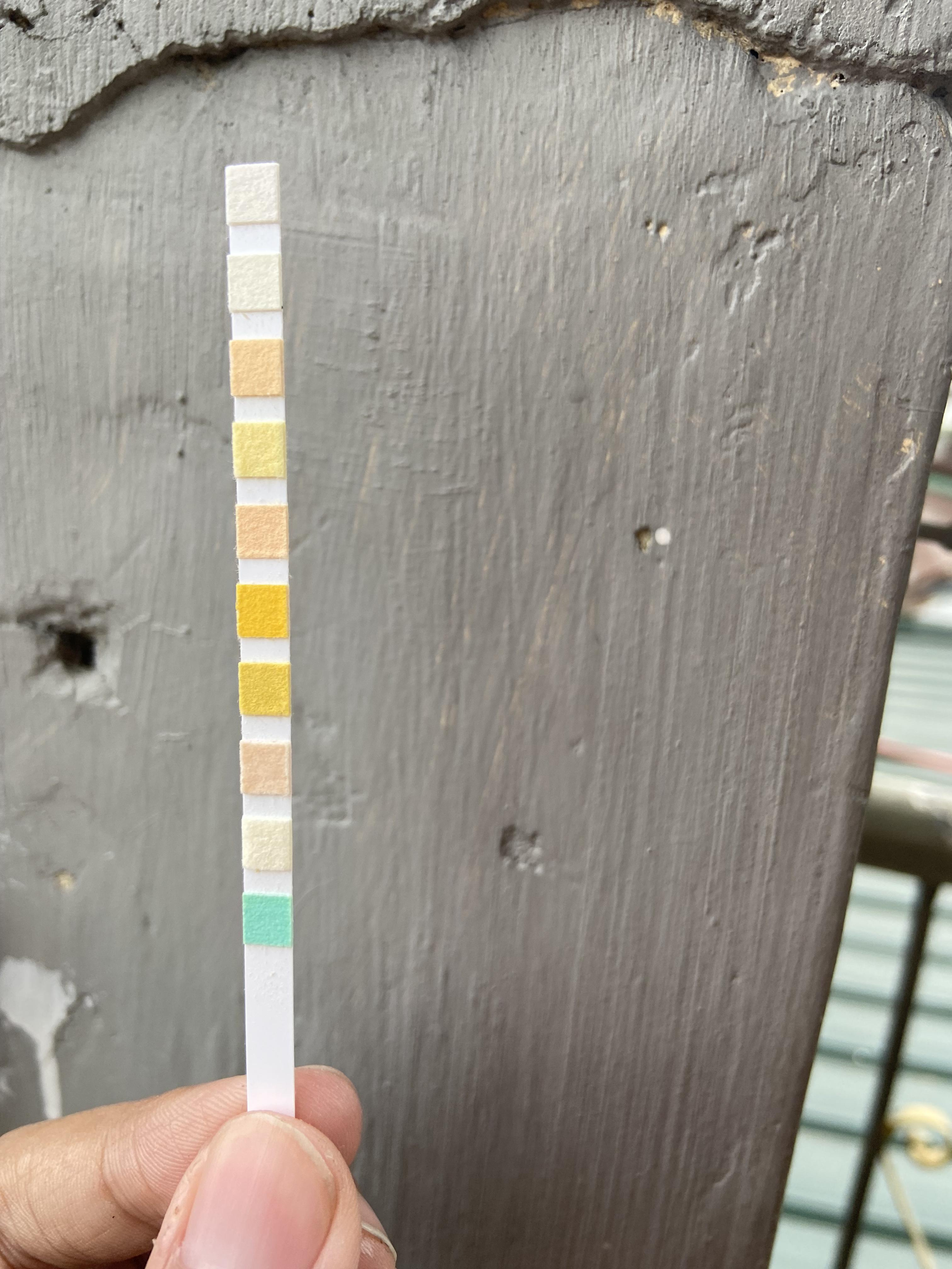Bilirubin: (244, 819, 290, 868)
Blood: (239, 586, 288, 636)
Glucose: (245, 895, 291, 945)
Ketone: (242, 743, 289, 792)
Leukocytes: (227, 168, 276, 221)
Nitrite: (230, 255, 279, 309)
Protein: (235, 424, 282, 475)
SpGravity: (242, 666, 288, 714)
Urobilinogen: (232, 343, 280, 394)
pH: (238, 506, 287, 556)
strip: (225, 163, 298, 1106)
